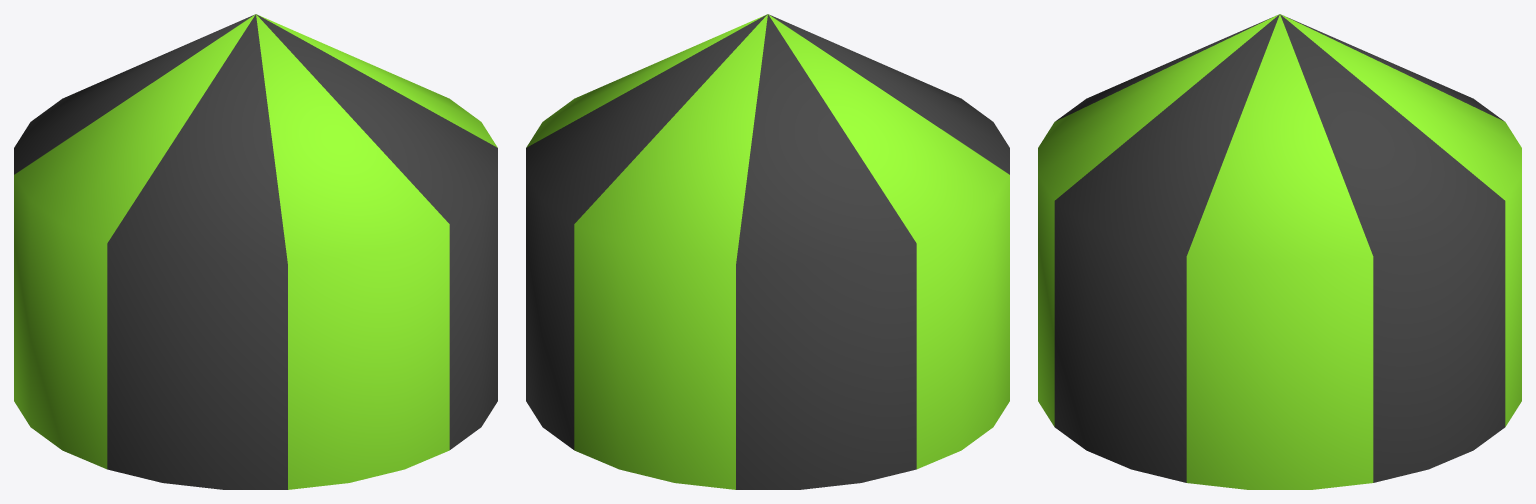
The model's file is BumperCross.fbx.
The picture shows the model from 3 angles, left to right: view 1: azimuth 30°, elevation 25°; view 2: azimuth 150°, elevation 25°; view 3: azimuth 270°, elevation 25°; orthographic projection.
Visible parts, largest first — view 1: BumperCross; view 2: BumperCross; view 3: BumperCross.
Part boxes in pixels (x1,y1,x2,y2): BumperCross: (14,14,497,489); BumperCross: (526,14,1009,489); BumperCross: (1038,14,1521,489).
Size of the model in its own units: 43.13 by 36.75 by 43.13.
